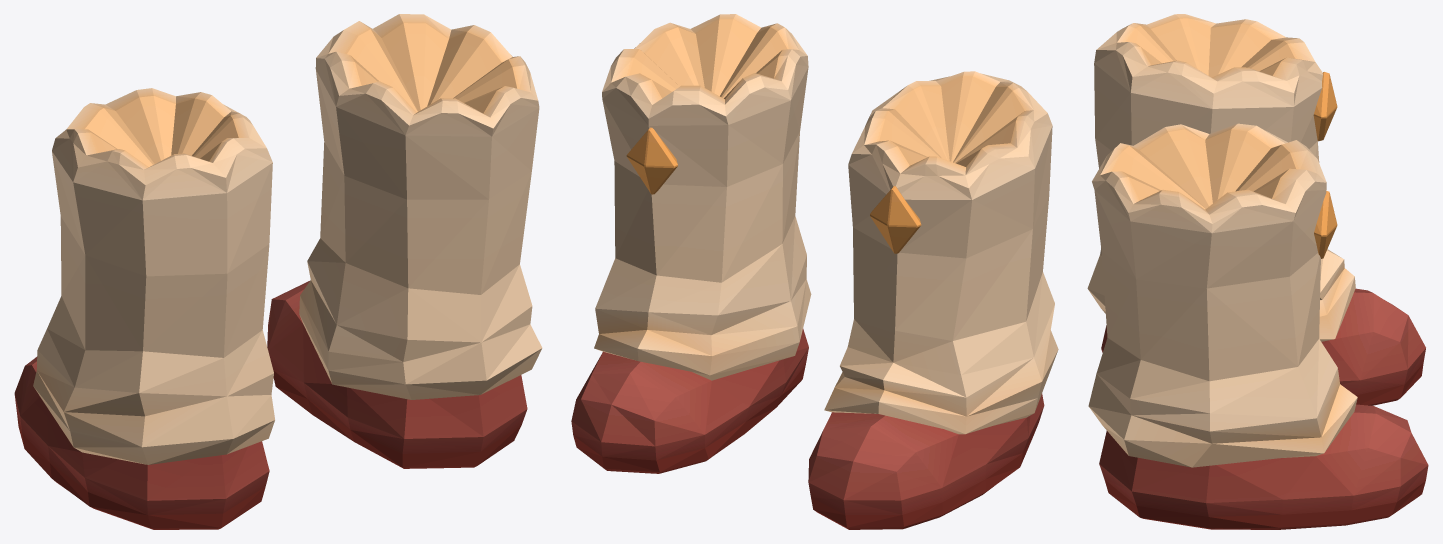
The model's file is CharSkyKid_Feet_AP24BellShoes.glb.
3 views of the same model, side by side, from view 1: azimuth 30°, elevation 25°; view 2: azimuth 150°, elevation 25°; view 3: azimuth 270°, elevation 25° (orthographic). The views are drawn at different scales.
Parts seen in each view (by area): view 1: CharSkyKid_Feet_AP24BellShoes; view 2: CharSkyKid_Feet_AP24BellShoes; view 3: CharSkyKid_Feet_AP24BellShoes.
Boxes of the visible parts, left/top/right/bottom form: CharSkyKid_Feet_AP24BellShoes: left=14, top=14, right=542, bottom=529; CharSkyKid_Feet_AP24BellShoes: left=571, top=14, right=1058, bottom=529; CharSkyKid_Feet_AP24BellShoes: left=1087, top=14, right=1428, bottom=529.
Size of the model in its own units: 3.21 by 2.51 by 2.24.
Materials: 1 (1 with a texture image).
